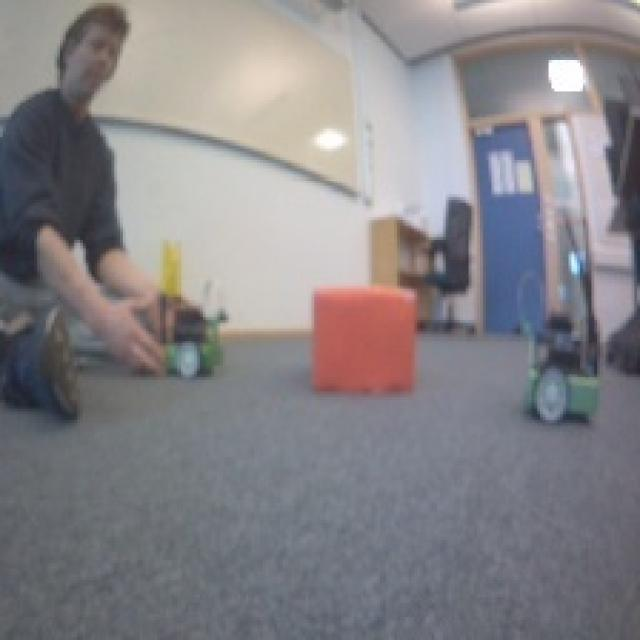robot: (519, 319, 602, 426), (137, 300, 227, 382)
target: (309, 280, 420, 394)
